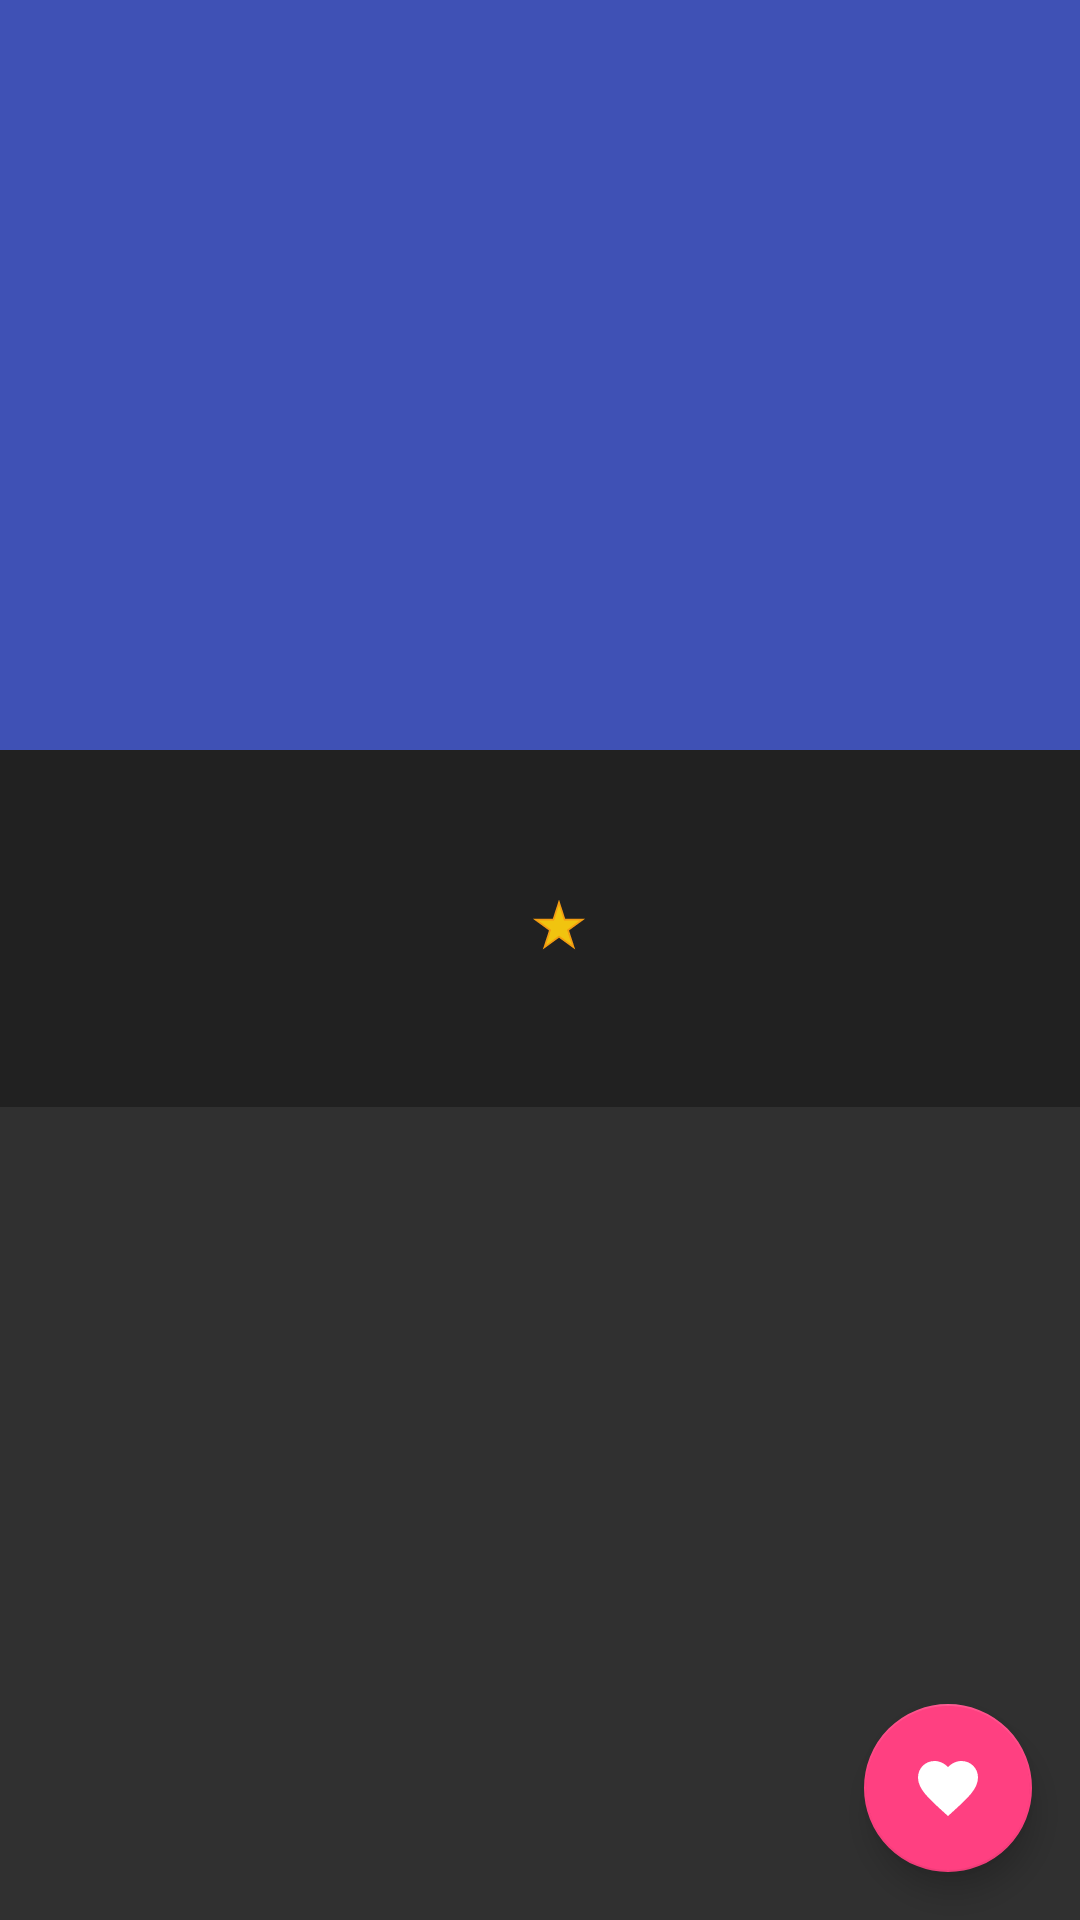

Screen size 1080x1920. Icon name, then its center in pixels as [x,y]:
heart: [948,1788]
